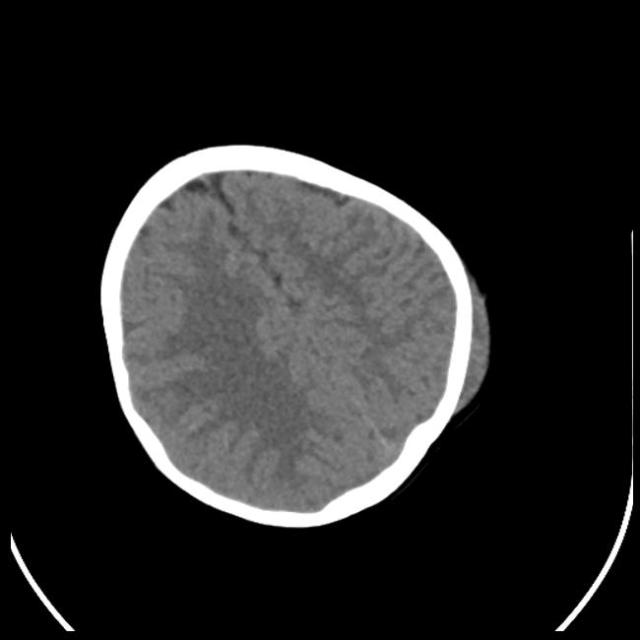lesion: (96, 139, 496, 532)
